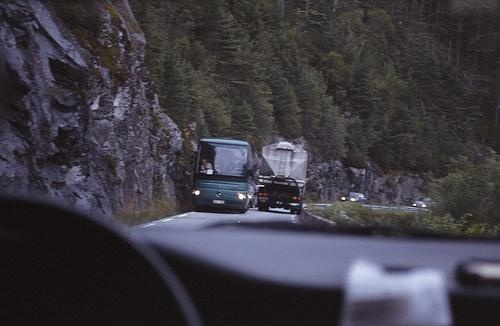bus: (189, 140, 257, 213)
car: (341, 194, 369, 205)
